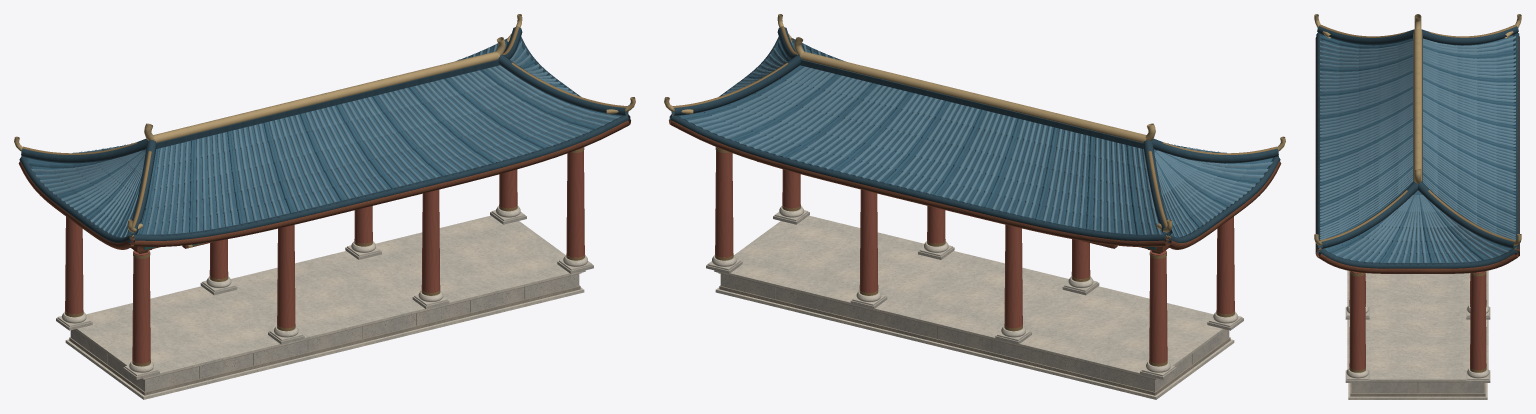
The picture shows the model from 3 angles, left to right: view 1: azimuth 30°, elevation 25°; view 2: azimuth 150°, elevation 25°; view 3: azimuth 270°, elevation 25°; orthographic projection. The views are drawn at different scales.
Visible parts, largest first — view 1: ThroughWalkway_stonePale, ContinuousCorridorRoof_tileRound, ContinuousCorridorRoof_glaze, ThreeOpenBays_lacquer, ContinuousCorridorRoof_shadowTile, ThroughWalkway_stone, ContinuousCorridorRoof_heartwood, ContinuousCorridorRoof_gold, ThroughWalkway_carving, ThreeOpenBays_stonePale, ThreeOpenBays_stone, ContinuousCorridorRoof_bronze (+1 smaller); view 2: ThroughWalkway_stonePale, ContinuousCorridorRoof_tileRound, ContinuousCorridorRoof_glaze, ThreeOpenBays_lacquer, ContinuousCorridorRoof_shadowTile, ThroughWalkway_stone, ContinuousCorridorRoof_gold, ContinuousCorridorRoof_heartwood, ThroughWalkway_carving, ThreeOpenBays_stonePale, ThreeOpenBays_stone, ContinuousCorridorRoof_bronze (+1 smaller); view 3: ContinuousCorridorRoof_tileRound, ContinuousCorridorRoof_glaze, ThroughWalkway_stonePale, ContinuousCorridorRoof_shadowTile, ThreeOpenBays_lacquer, ContinuousCorridorRoof_gold, ContinuousCorridorRoof_heartwood, ThroughWalkway_stone, ContinuousCorridorRoof_bronze, ThroughWalkway_carving, ThreeOpenBays_stonePale, ThreeOpenBays_stone (+1 smaller).
Part boxes in pixels (<box>): ThroughWalkway_stonePale: <box>65,215,585,399</box>; ContinuousCorridorRoof_tileRound: <box>31,41,619,237</box>; ContinuousCorridorRoof_glaze: <box>27,42,621,237</box>; ThreeOpenBays_lacquer: <box>65,147,584,363</box>; ContinuousCorridorRoof_shadowTile: <box>19,27,630,243</box>; ThroughWalkway_stone: <box>70,274,579,391</box>; ContinuousCorridorRoof_heartwood: <box>18,117,630,249</box>; ContinuousCorridorRoof_gold: <box>14,14,635,232</box>; ThroughWalkway_carving: <box>69,273,581,395</box>; ThreeOpenBays_stonePale: <box>57,206,592,376</box>; ThreeOpenBays_stone: <box>56,212,593,379</box>; ContinuousCorridorRoof_bronze: <box>22,26,627,238</box>; ThroughWalkway_stonePale: <box>714,215,1234,399</box>; ContinuousCorridorRoof_tileRound: <box>686,42,1272,237</box>; ContinuousCorridorRoof_glaze: <box>678,41,1272,237</box>; ThreeOpenBays_lacquer: <box>715,147,1234,363</box>; ContinuousCorridorRoof_shadowTile: <box>669,27,1280,243</box>; ThroughWalkway_stone: <box>720,274,1229,391</box>; ContinuousCorridorRoof_gold: <box>664,14,1285,232</box>; ContinuousCorridorRoof_heartwood: <box>669,117,1281,249</box>; ThroughWalkway_carving: <box>718,273,1230,395</box>; ThreeOpenBays_stonePale: <box>707,206,1242,376</box>; ThreeOpenBays_stone: <box>706,212,1243,379</box>; ContinuousCorridorRoof_bronze: <box>672,26,1277,238</box>; ContinuousCorridorRoof_tileRound: <box>1320,35,1515,263</box>; ContinuousCorridorRoof_glaze: <box>1320,35,1515,262</box>; ThroughWalkway_stonePale: <box>1347,270,1488,399</box>; ContinuousCorridorRoof_shadowTile: <box>1316,26,1519,268</box>; ThreeOpenBays_lacquer: <box>1349,271,1486,370</box>; ContinuousCorridorRoof_gold: <box>1314,14,1521,245</box>; ContinuousCorridorRoof_heartwood: <box>1315,36,1519,273</box>; ThroughWalkway_stone: <box>1351,382,1484,393</box>; ContinuousCorridorRoof_bronze: <box>1318,24,1517,250</box>; ThroughWalkway_carving: <box>1350,381,1485,396</box>; ThreeOpenBays_stonePale: <box>1346,304,1489,379</box>; ThreeOpenBays_stone: <box>1345,307,1490,382</box>.
Size of the model in its own units: 12.63 by 5.63 by 5.
Materials: 12 (12 with a texture image).
